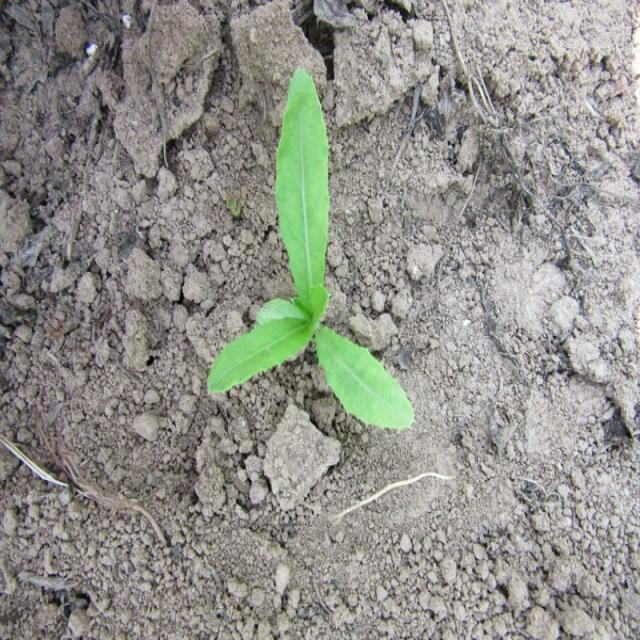field_thistle: (222, 59, 429, 432)
